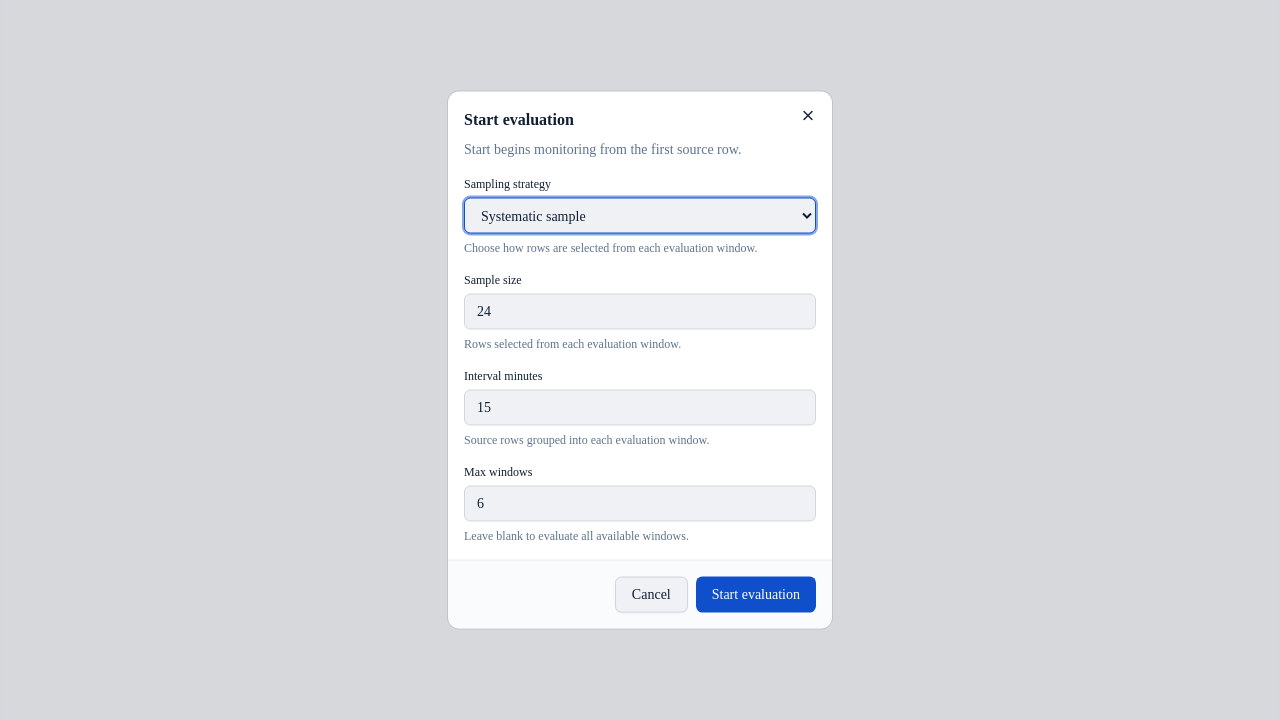
Test: EvaluationConfigDialog › validates Sample size before submission
Select "Random sample" in the dropdown labelled "Sampling strategy" at (640, 216), box x1=464 y1=198 x2=816 y2=234
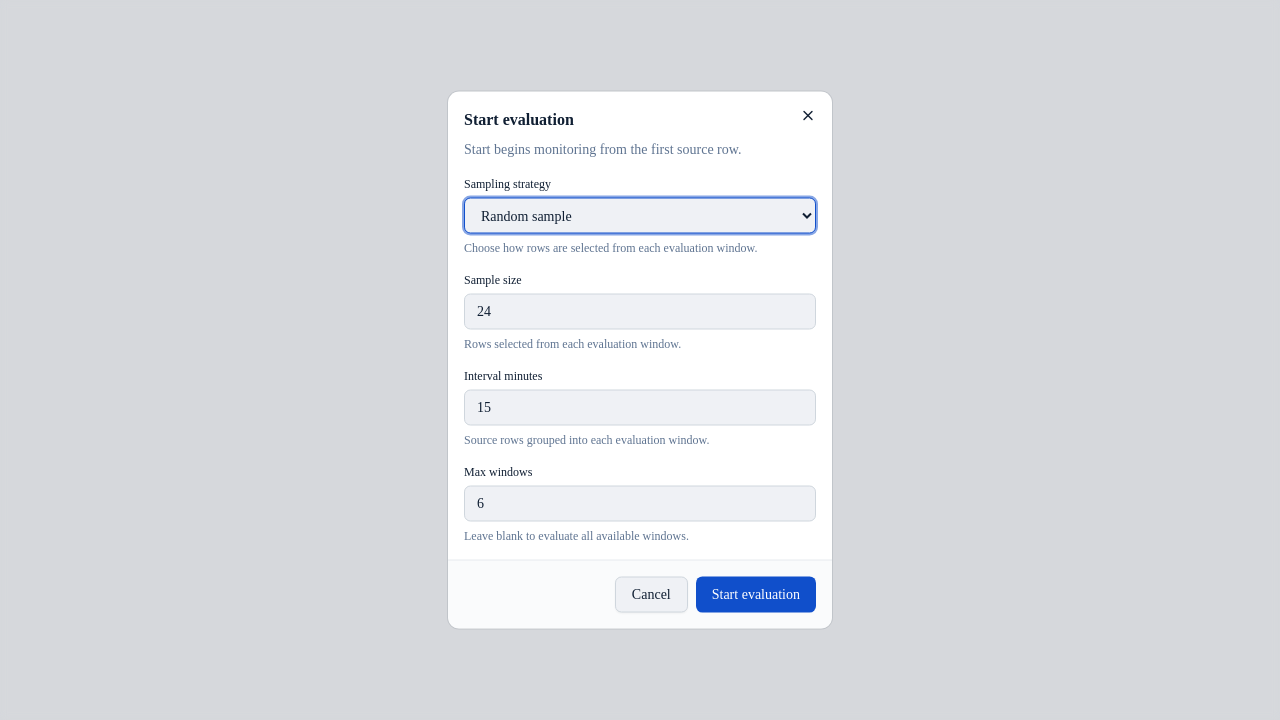
Replace the text in the number field labelled "Sample size" with "0" at (640, 312), box x1=464 y1=294 x2=816 y2=330
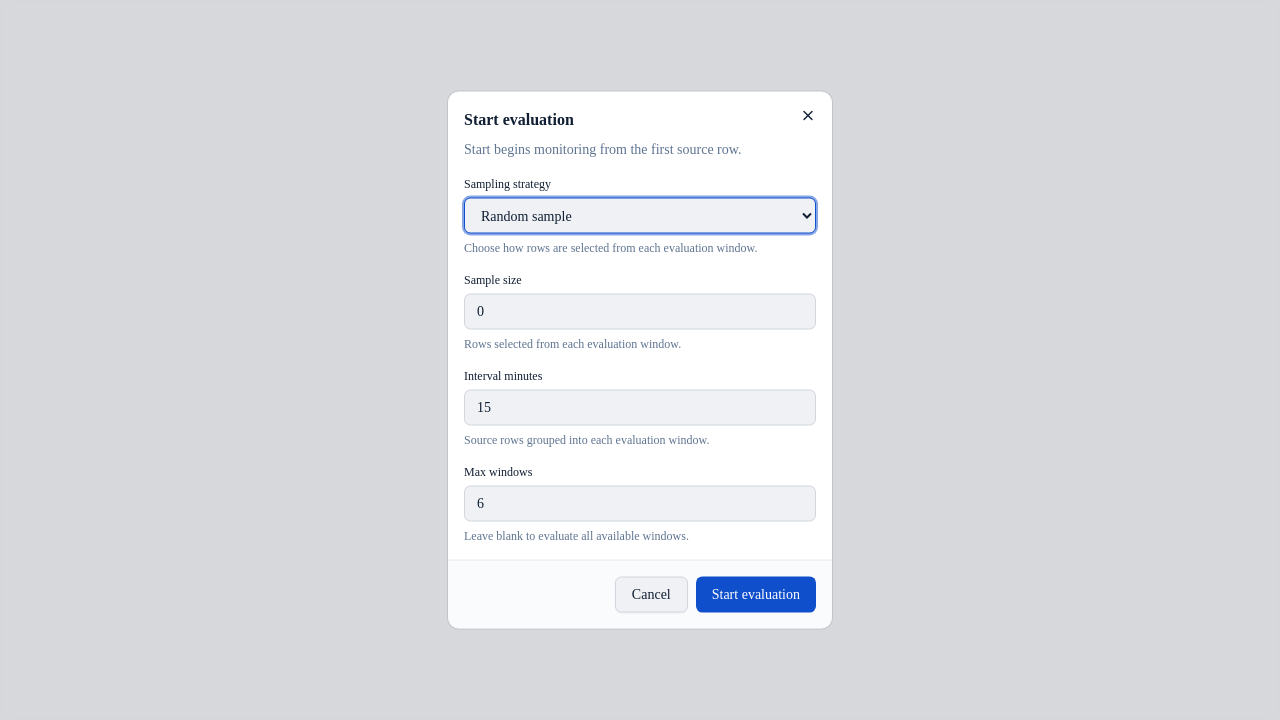
Click the button "Start evaluation" at (756, 594), box x1=696 y1=576 x2=816 y2=612
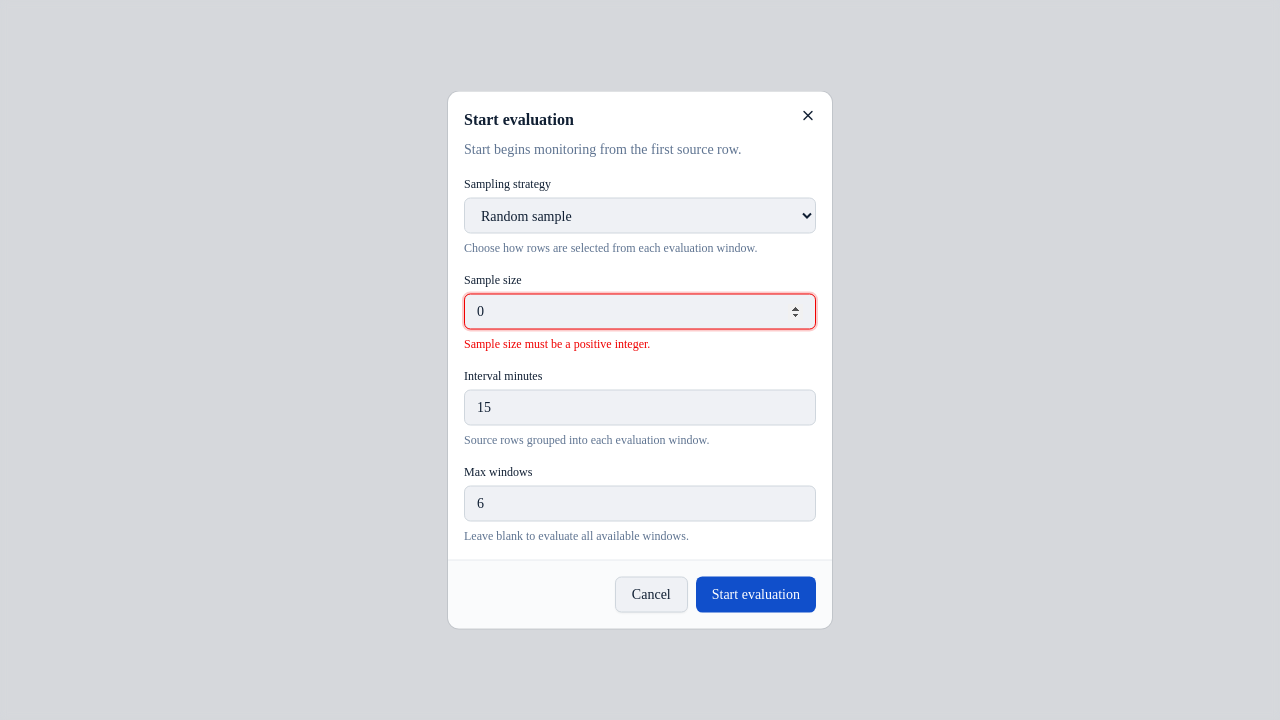
Expected: the text "Sample size must be a positive integer." is shown, x1=464 y1=336 x2=650 y2=350
